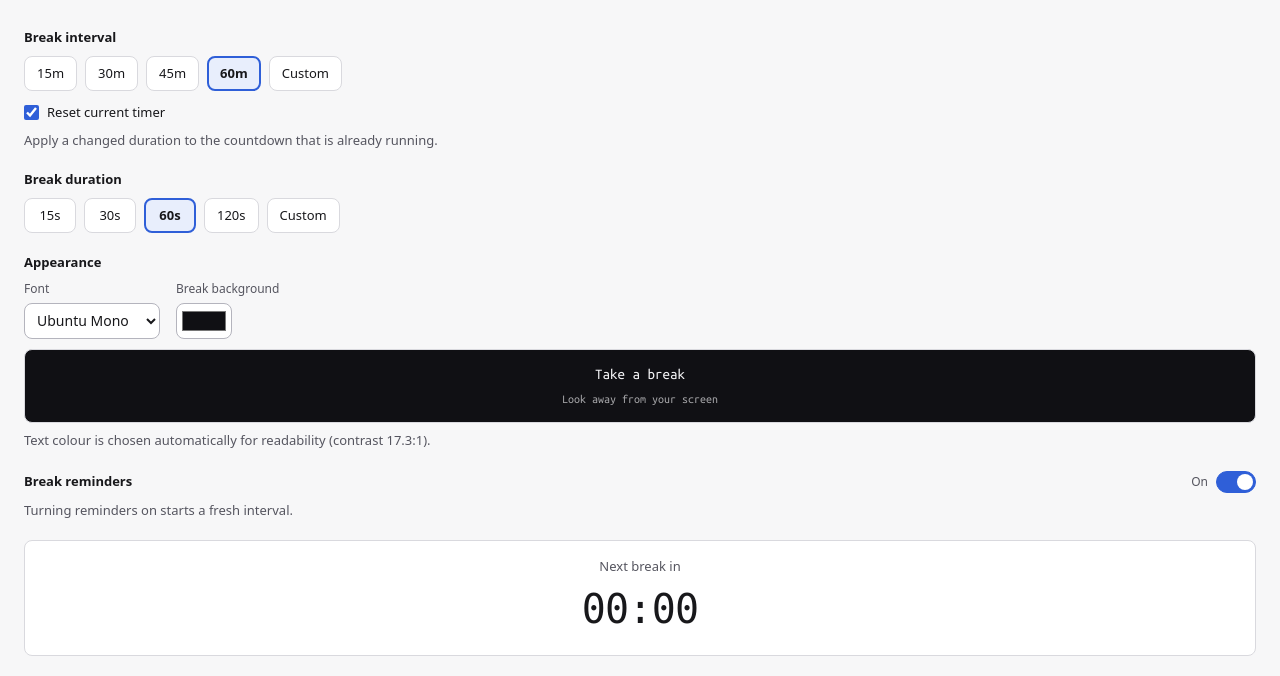
Test: configuring durations › shows an inline error and saves nothing for an invalid custom value
The width and height of the screenshot is (1280, 676).
Click the radio button labelled "Custom" in the row of "45". click: (305, 73)
box: [269,56,342,91]
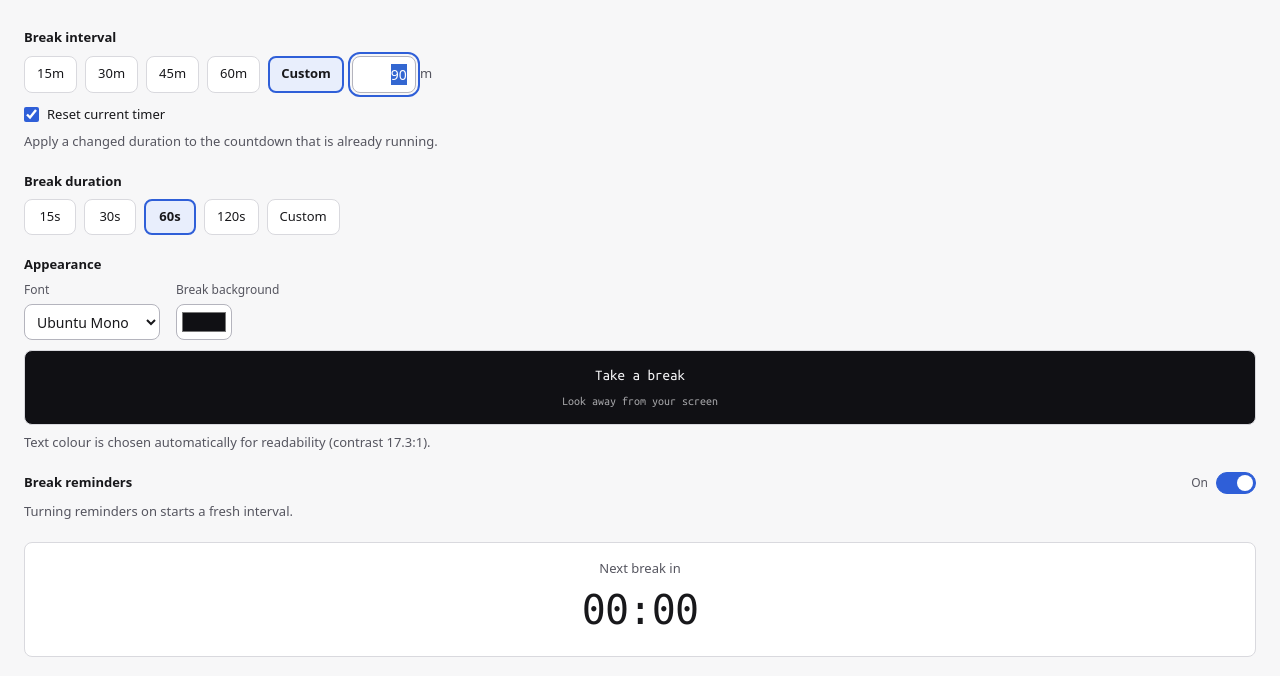
Clear the field named "Custom (minutes)". click: (384, 74)
box: [352,56,416,92]
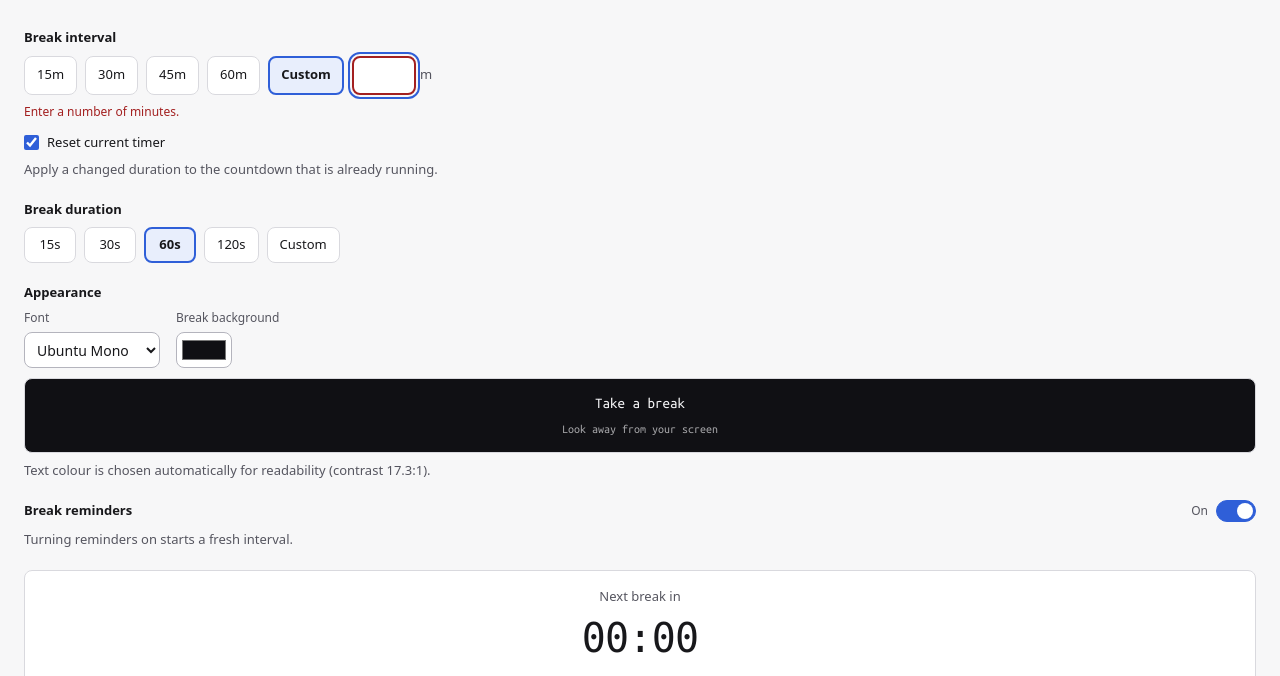
Type "0" into the field named "Custom (minutes)". click: (384, 75)
box: [352,56,416,94]
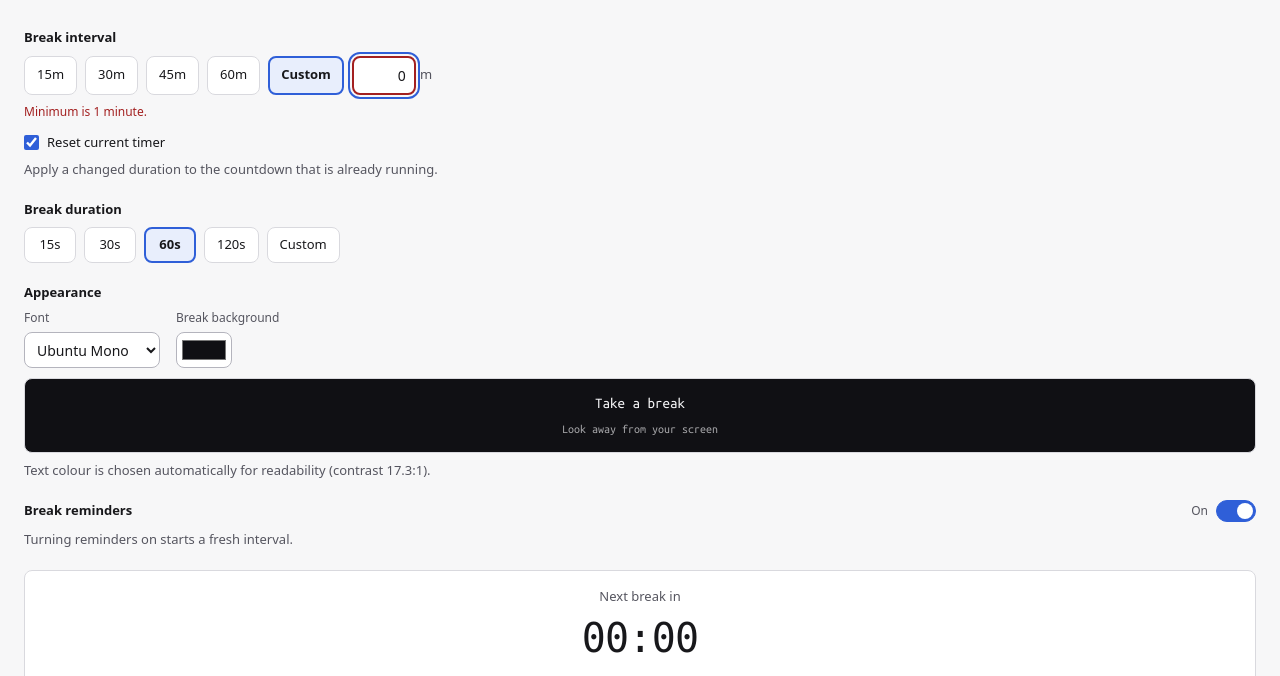
Expected: the message shows "Minimum is 1 minute", [24,102,147,120]
